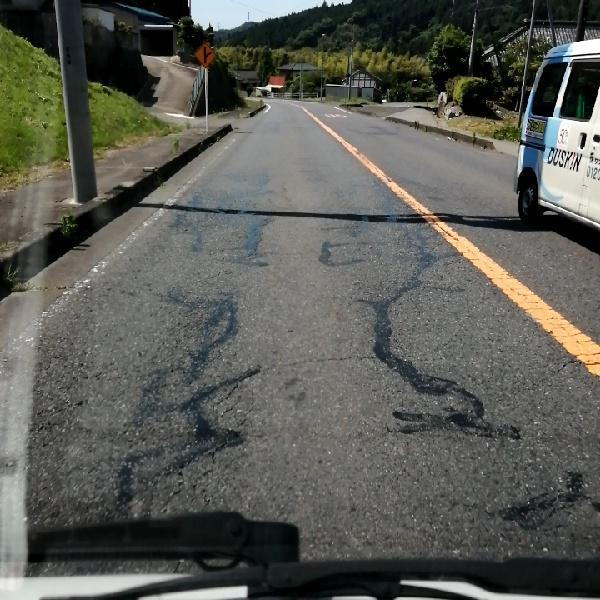D10: (41, 276, 153, 299), (291, 344, 379, 370)
D20: (364, 295, 591, 527), (113, 288, 287, 520), (175, 169, 466, 301)
